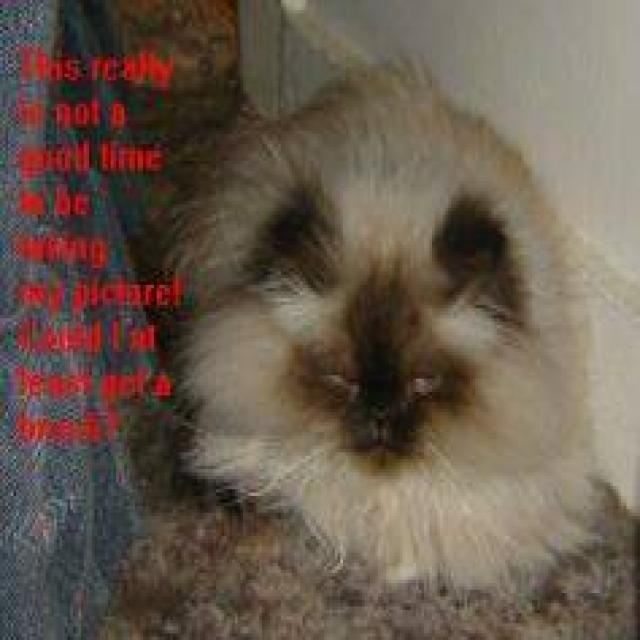cat: (143, 0, 637, 603)
